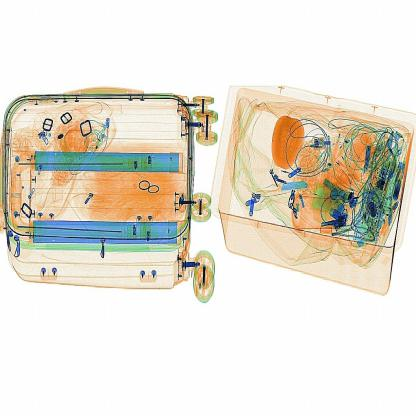pliers: (266, 174, 312, 198)
